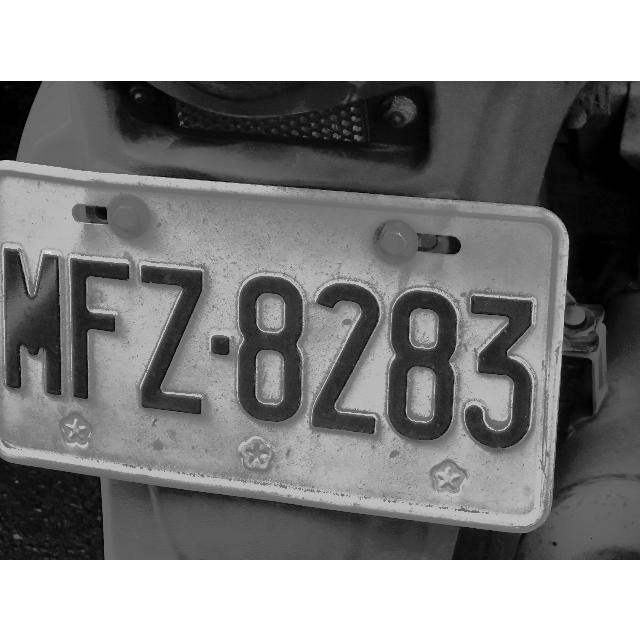-: (209, 330, 233, 360)
2: (312, 276, 382, 440)
3: (467, 286, 538, 452)
8: (235, 266, 307, 428), (388, 282, 460, 442)
F: (66, 252, 136, 406)
M: (3, 242, 65, 404)
Z: (137, 258, 209, 422)
